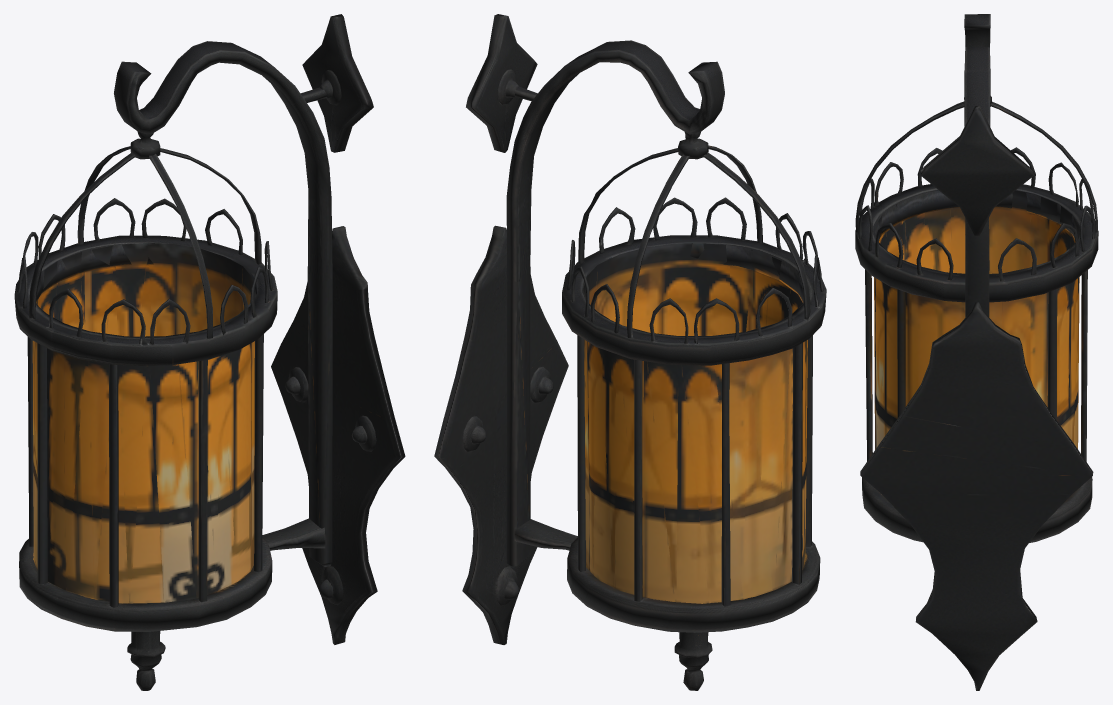
The model's file is farol_pared.glb.
The picture shows the model from 3 angles, left to right: view 1: azimuth 30°, elevation 25°; view 2: azimuth 150°, elevation 25°; view 3: azimuth 270°, elevation 25°; orthographic projection. The views are drawn at different scales.
Size of the model in its own units: 0.5253 by 1 by 0.3801.
Materials: 1 (1 with a texture image).
